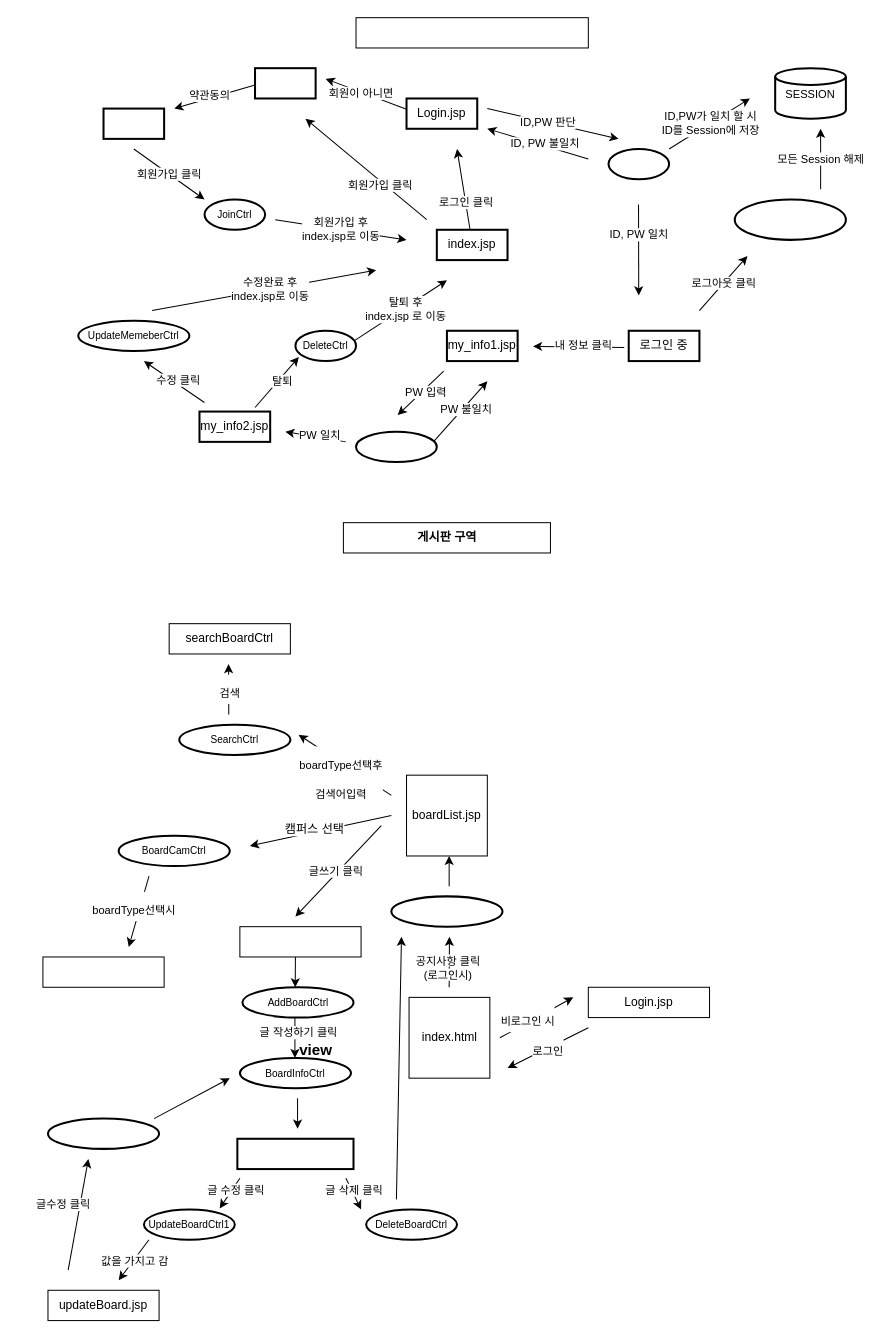
Some shapes in this 893 by 1338 pixel diagram are drawn without their labels. The centre of each missing label's shape, as x and y in pixels:
"addBoard.jsp" belongs at point (300, 941).
"boardInfo.jsp" belongs at point (295, 1153).
"BoardListCtrl" belongs at point (446, 911).
"Join.jsp" belongs at point (285, 83).
"Join2.jsp" belongs at point (133, 123).
"LoginCtrl" belongs at point (638, 163).
"LogoutCtrl (모든 Session 해제)" belongs at point (789, 219).
"PwCheckCtrl" belongs at point (396, 446).
"SelectCampus.jsp" belongs at point (103, 971).
"UpdateBoardCtrl2" belongs at point (103, 1133).
"로그인, 회원가입,내정보 구역" belongs at point (471, 32).
